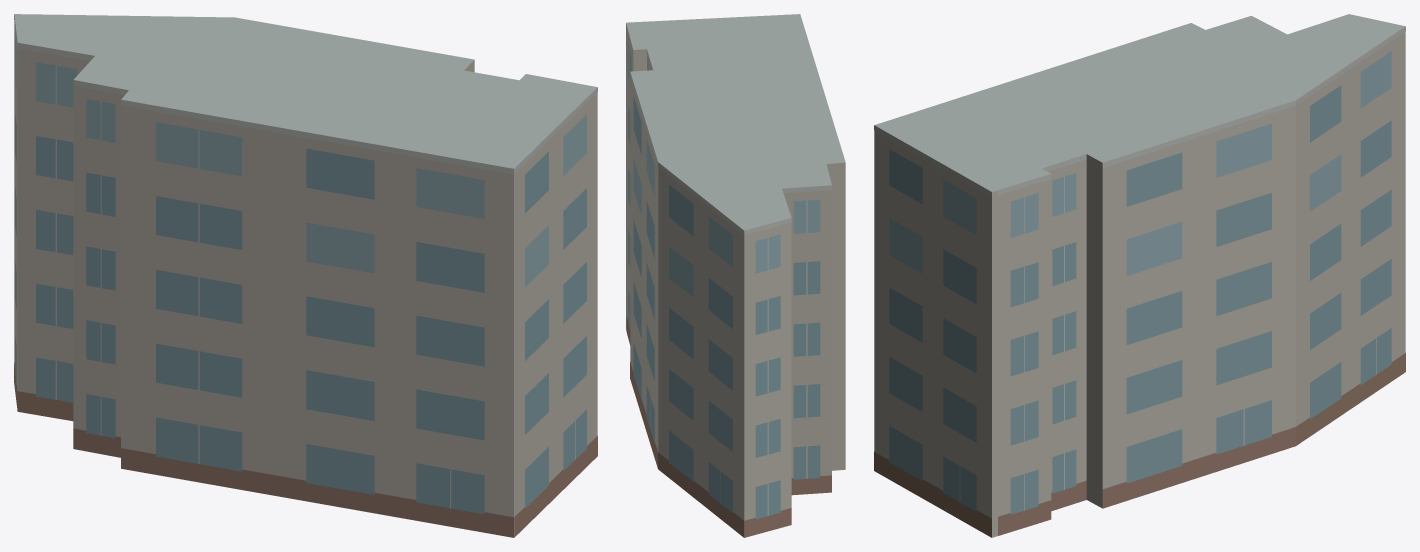
The model's file is survey-upis-32906657.glb.
The picture shows the model from 3 angles, left to right: view 1: azimuth 30°, elevation 25°; view 2: azimuth 150°, elevation 25°; view 3: azimuth 270°, elevation 25°; orthographic projection. The views are drawn at different scales.
Parts seen in each view (by area): view 1: survey-upis-32906657.tmp; view 2: survey-upis-32906657.tmp; view 3: survey-upis-32906657.tmp.
Boxes of the visible parts, x1=… form: survey-upis-32906657.tmp: x1=14, y1=14, x2=597, y2=537; survey-upis-32906657.tmp: x1=626, y1=14, x2=845, y2=537; survey-upis-32906657.tmp: x1=874, y1=14, x2=1405, y2=537.
Bounding box in the file's own units: 17.46 × 15.8 × 22.02.
